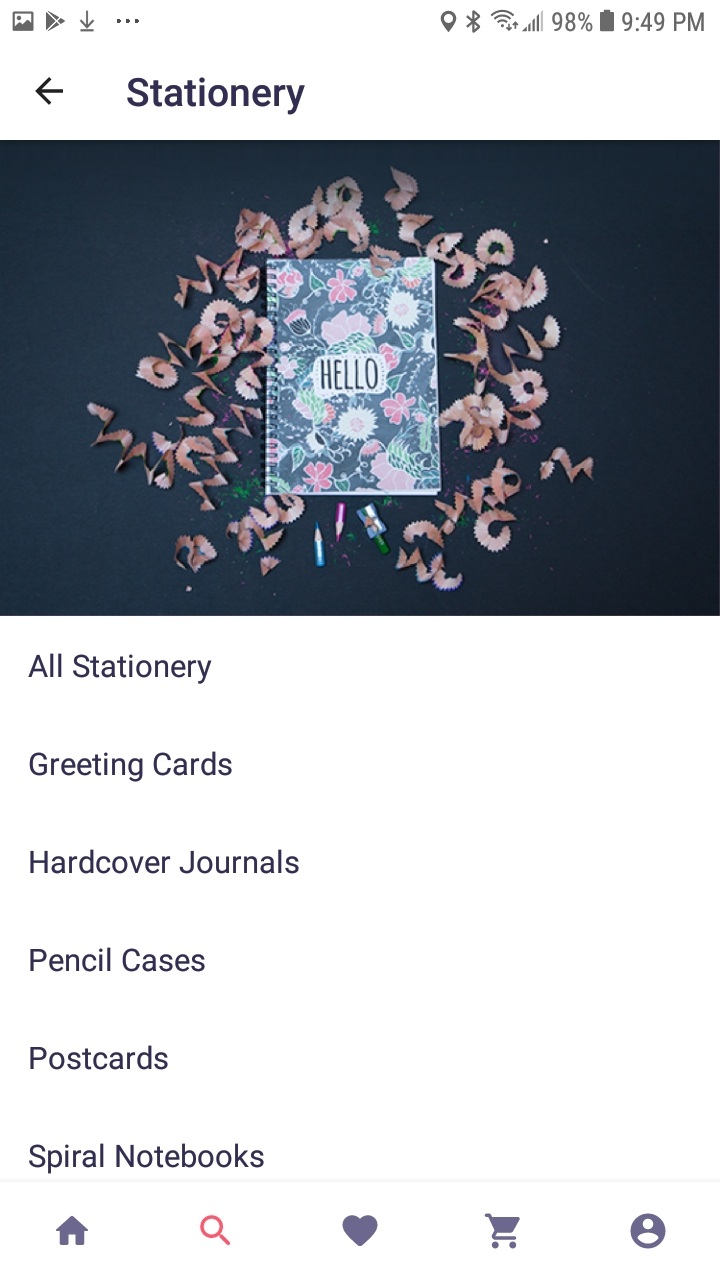Icon: (485, 1213, 521, 1249), (630, 1213, 666, 1249), (343, 1214, 379, 1247), (57, 1215, 90, 1245), (200, 1215, 231, 1246), (36, 77, 65, 107)
Image: (1, 141, 720, 617)
Text: (30, 1142, 265, 1174), (30, 849, 300, 875), (127, 77, 306, 116), (29, 751, 233, 783), (29, 653, 213, 685), (30, 947, 206, 973), (30, 1045, 169, 1071)
UpperTaskBar: (1, 1, 720, 35)
